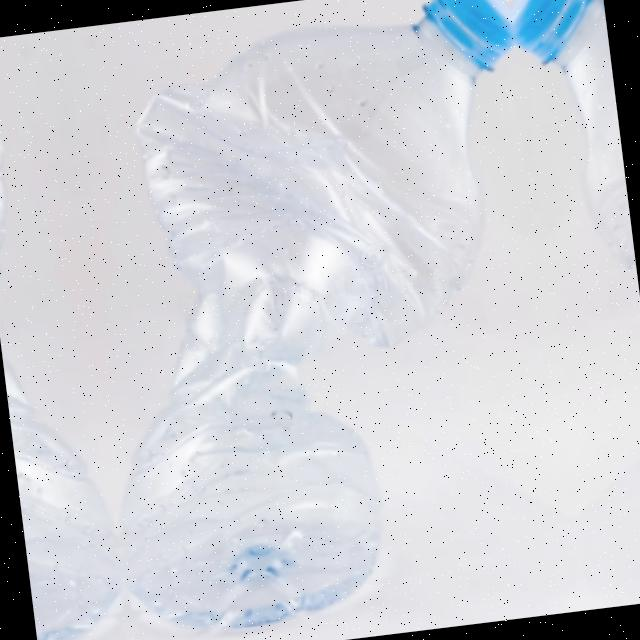Plastic: (54, 0, 584, 640), (505, 0, 640, 610), (0, 30, 132, 640)
